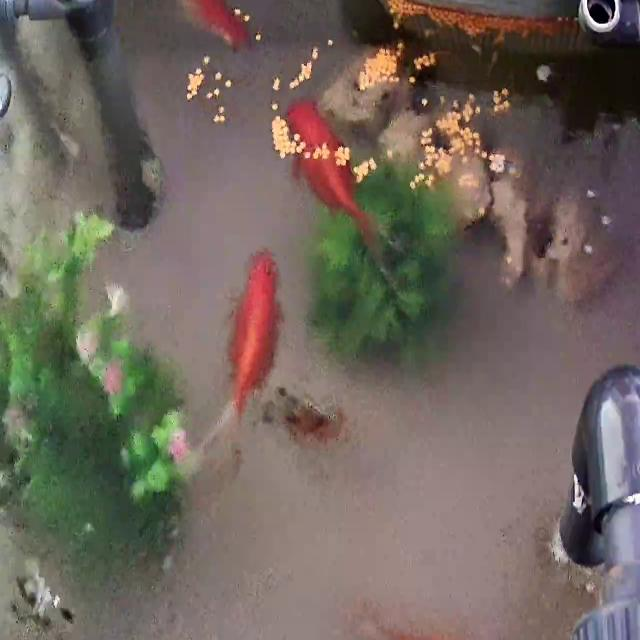fish: (184, 253, 275, 474), (291, 97, 368, 246), (130, 0, 246, 55), (268, 384, 338, 446), (353, 604, 466, 640)
